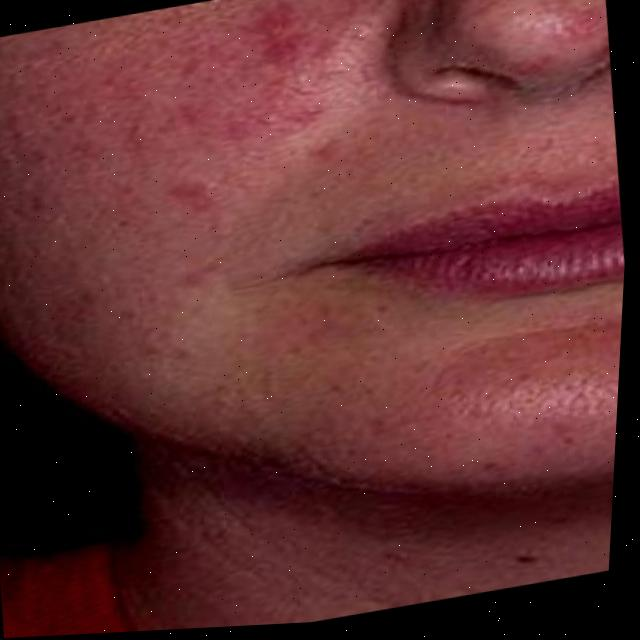Rosacea: (41, 0, 364, 229)
